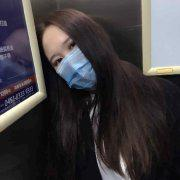OK: (49, 33, 106, 90)
